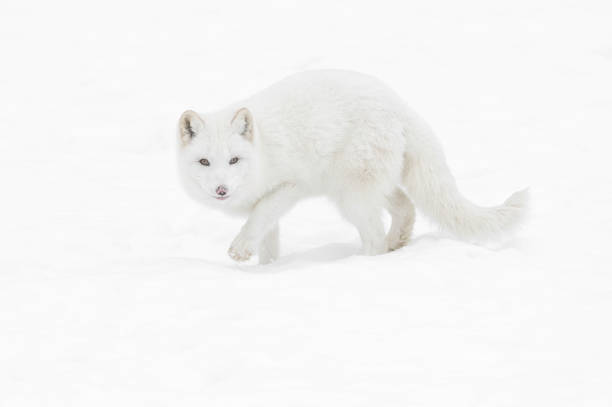arcticfox: (179, 124, 260, 212)
